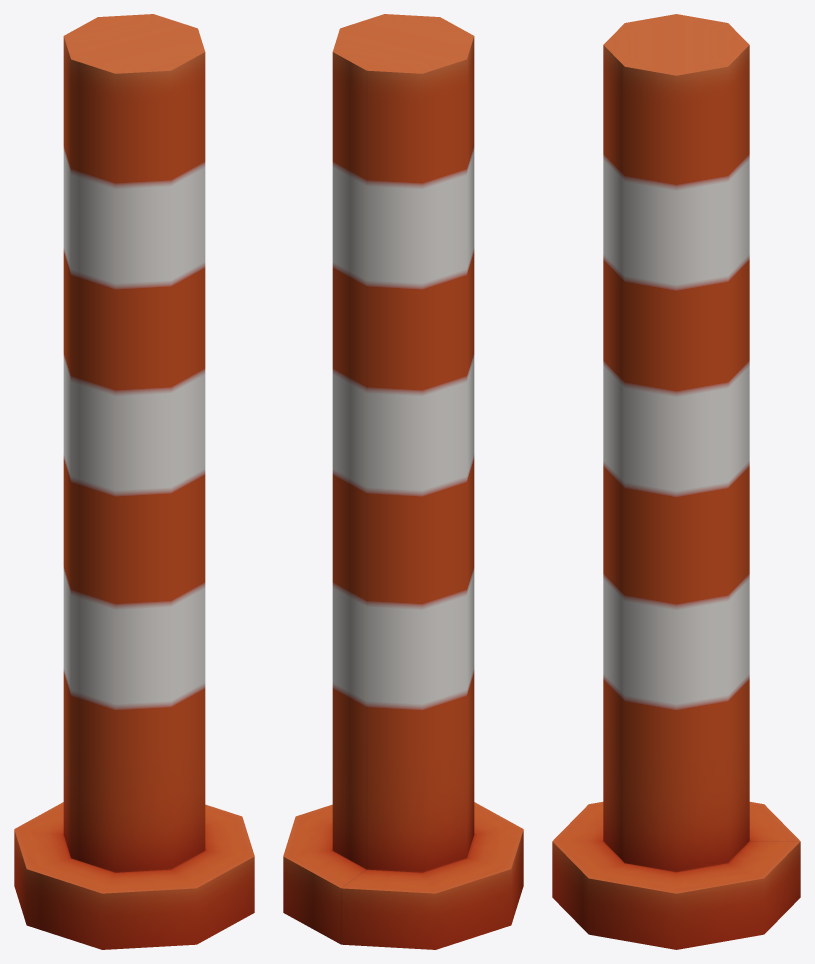
Rendered from CylinderStick02.FBX.
The picture shows the model from 3 angles, left to right: view 1: azimuth 30°, elevation 25°; view 2: azimuth 150°, elevation 25°; view 3: azimuth 270°, elevation 25°; orthographic projection.
Visible parts, largest first — view 1: CylinderStick02; view 2: CylinderStick02; view 3: CylinderStick02.
Part boxes in pixels (x1=…): CylinderStick02: x1=14, y1=14, x2=254, y2=949; CylinderStick02: x1=283, y1=14, x2=523, y2=949; CylinderStick02: x1=552, y1=14, x2=800, y2=949.
Bounding box in the file's own units: 18.82 × 71.31 × 18.82.
